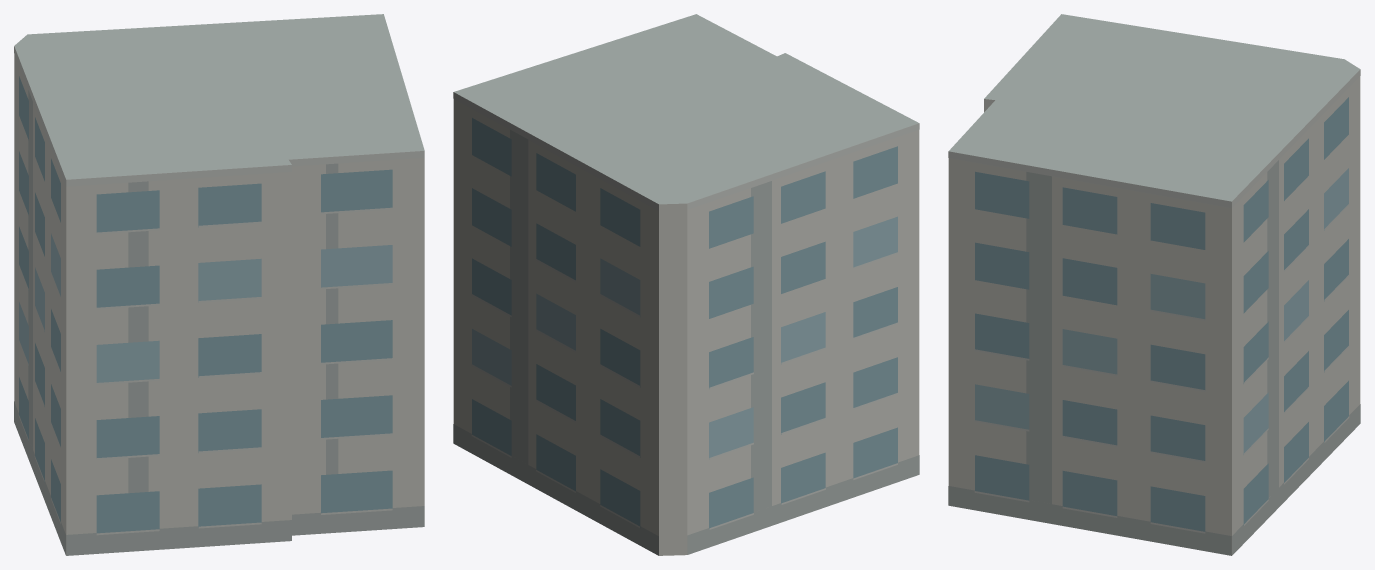
File: survey-upis-32941930.glb
3 views of the same model, side by side, from view 1: azimuth 30°, elevation 25°; view 2: azimuth 150°, elevation 25°; view 3: azimuth 270°, elevation 25° (orthographic). The views are drawn at different scales.
Parts seen in each view (by area): view 1: survey-upis-32941930.tmp; view 2: survey-upis-32941930.tmp; view 3: survey-upis-32941930.tmp.
Boxes of the visible parts, x1,y1,x2,y2 form: survey-upis-32941930.tmp: (14, 14, 424, 555); survey-upis-32941930.tmp: (453, 14, 919, 555); survey-upis-32941930.tmp: (948, 14, 1360, 555).
Bounding box in the file's own units: 14.77 × 13 × 13.71.
